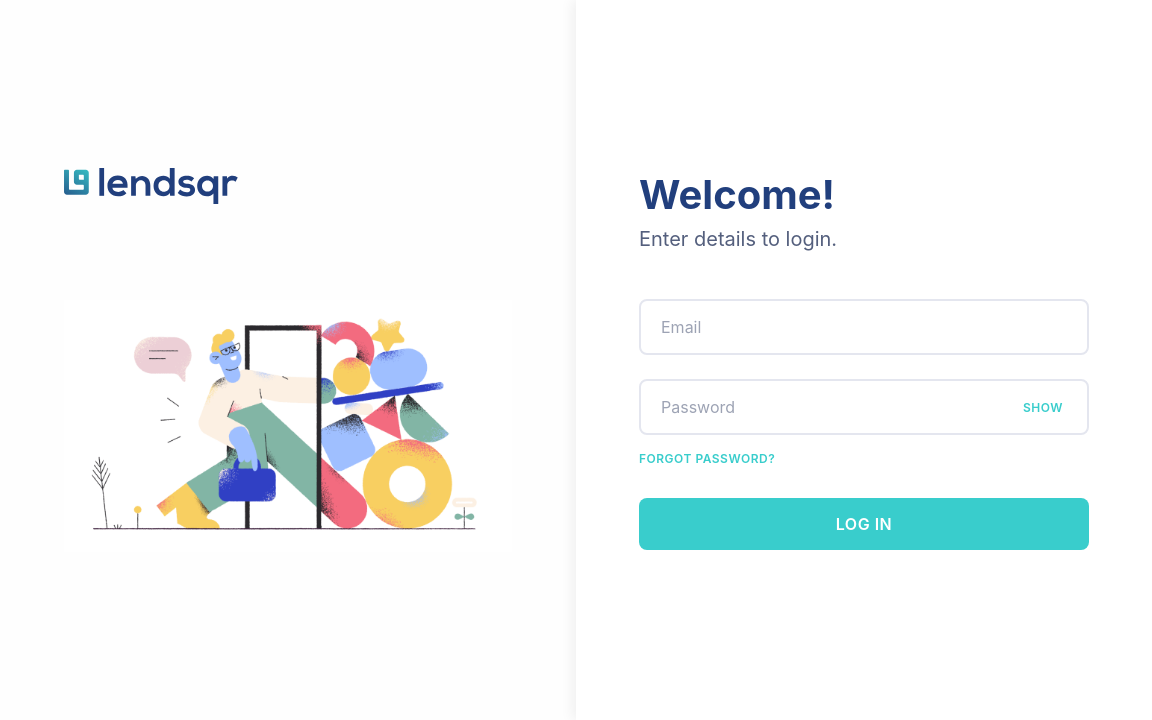
it: LoginPage › toggles password visibility
The image size is (1152, 720).
Click the button "SHOW" at (1043, 407), box left=1017, top=398, right=1069, bottom=416
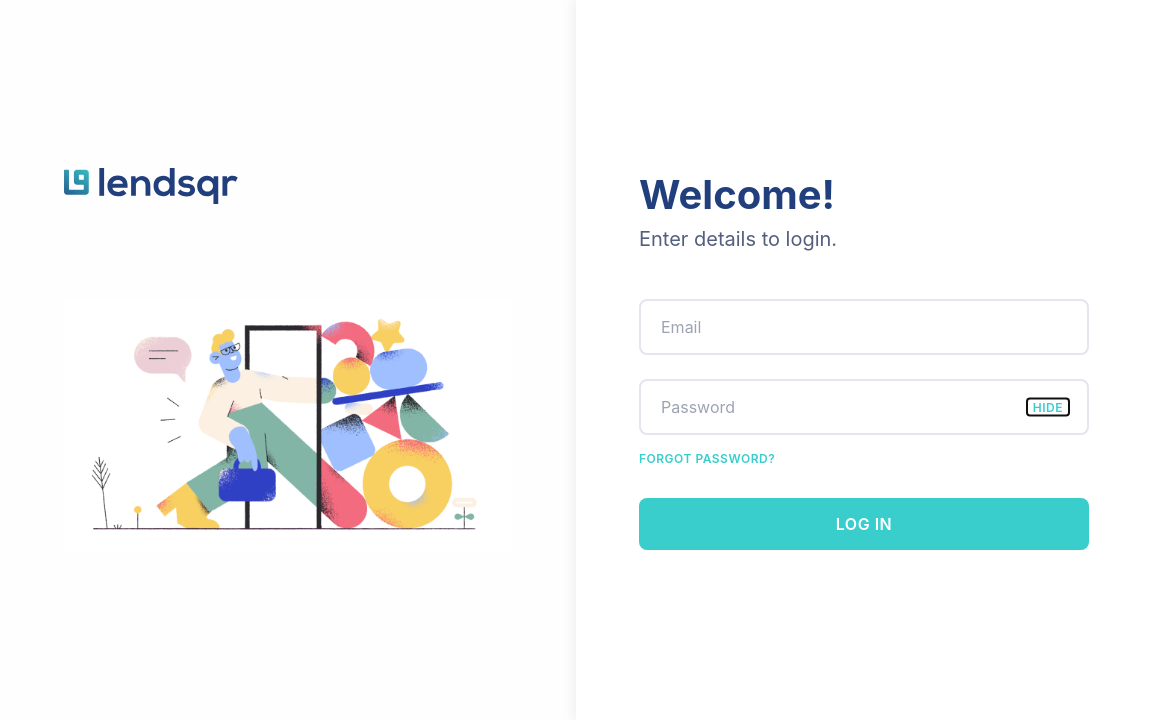
Expected: the button named "show" reads "HIDE", left=1027, top=398, right=1069, bottom=416
